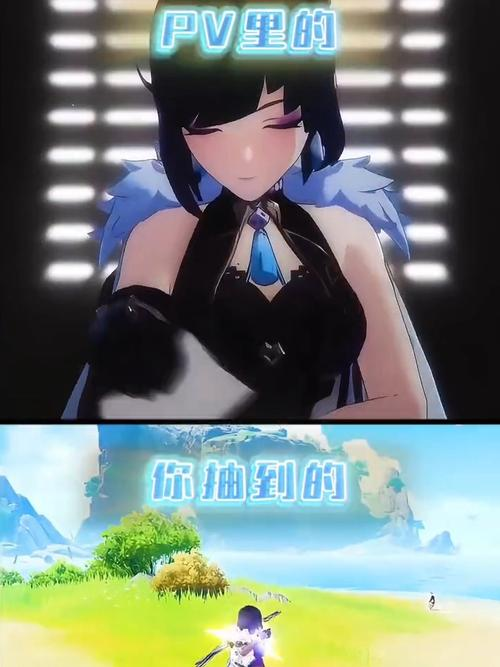夜兰: (72, 1, 437, 423), (214, 598, 278, 667)
